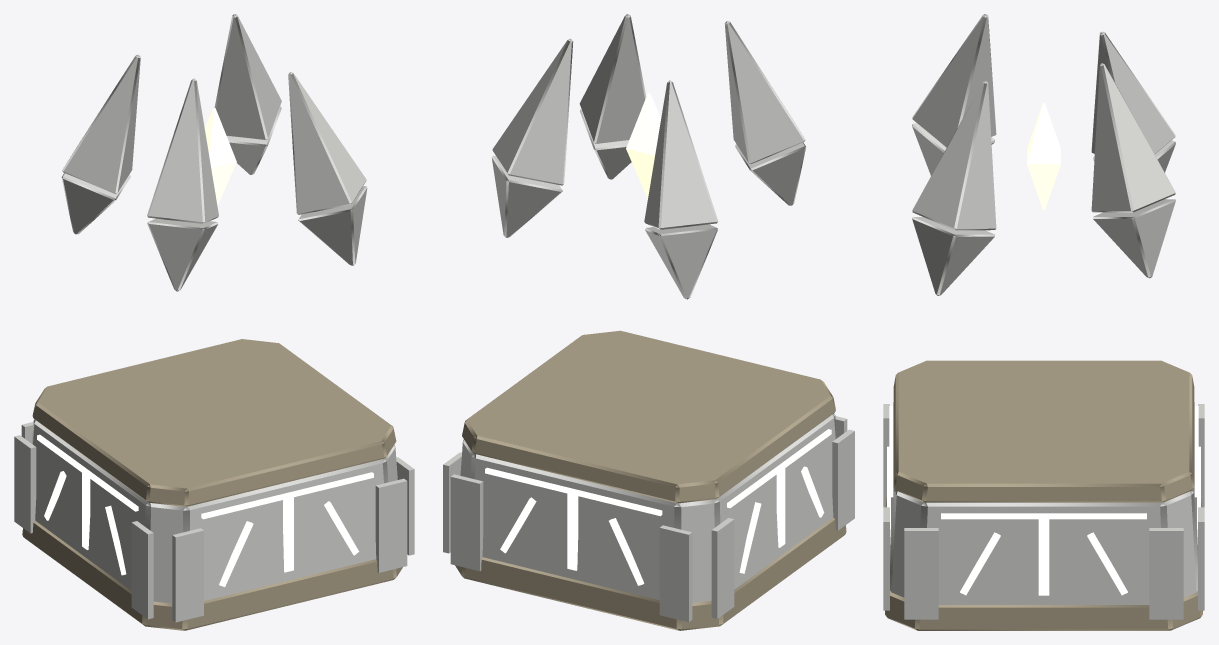
The model's file is SM_SB_Kit_Altar.fbx.
The picture shows the model from 3 angles, left to right: view 1: azimuth 30°, elevation 25°; view 2: azimuth 150°, elevation 25°; view 3: azimuth 270°, elevation 25°; orthographic projection. The views are drawn at different scales.
Visible parts, largest first — view 1: SM_SB_Kit_Altar; view 2: SM_SB_Kit_Altar; view 3: SM_SB_Kit_Altar.
Part boxes in pixels (left/top/right/bottom): SM_SB_Kit_Altar: left=14, top=14, right=414, bottom=630; SM_SB_Kit_Altar: left=443, top=14, right=854, bottom=630; SM_SB_Kit_Altar: left=883, top=14, right=1204, bottom=630.
Size of the model in its own units: 657 by 657 by 1186.
